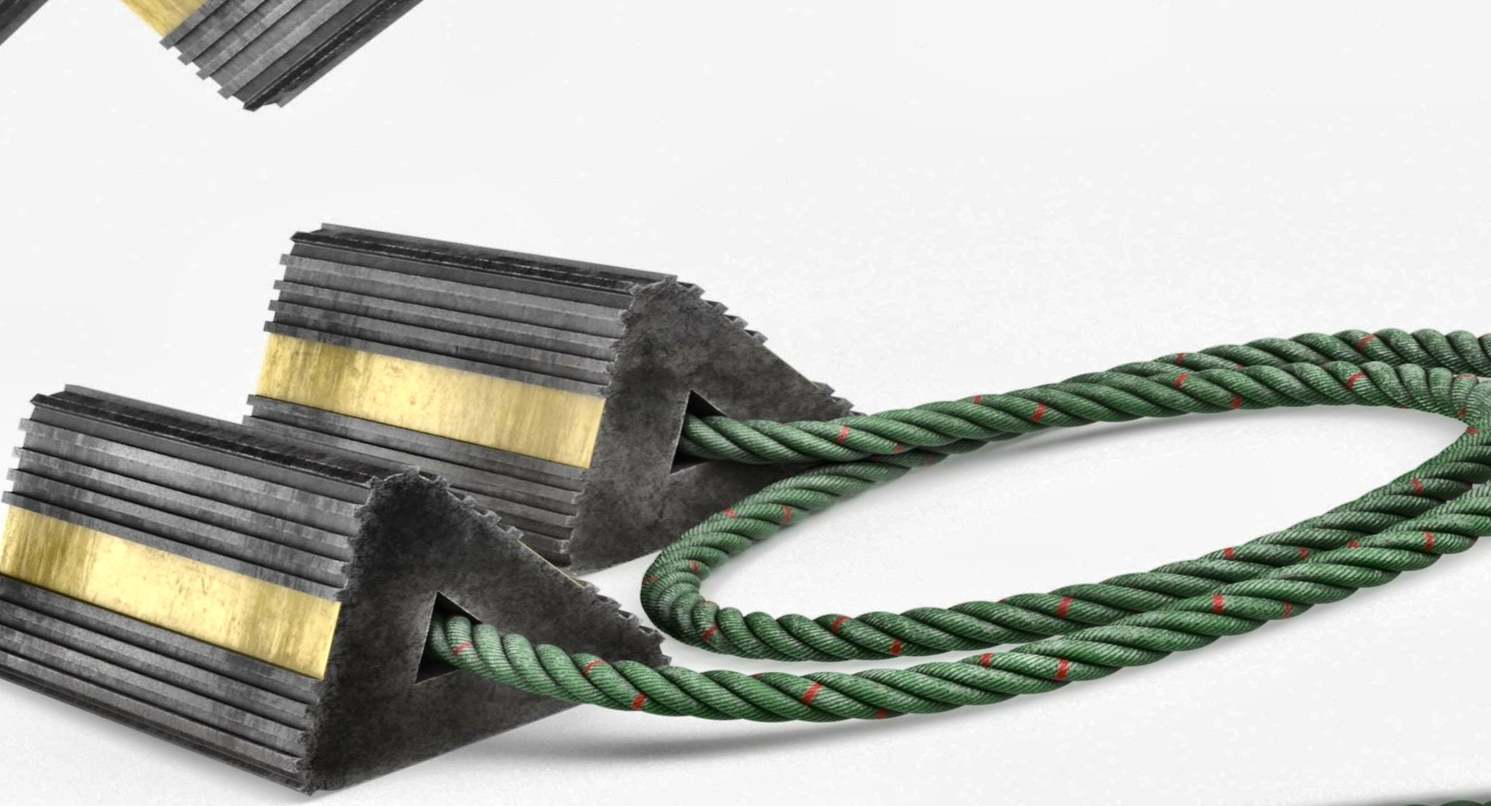chock: (171, 113, 928, 640), (0, 265, 700, 806), (13, 0, 751, 142)
